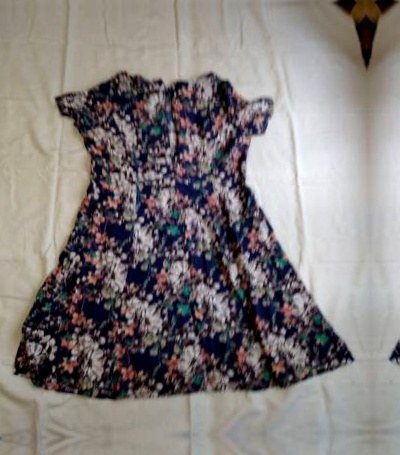Dress: (0, 58, 349, 405), (391, 51, 400, 398)
